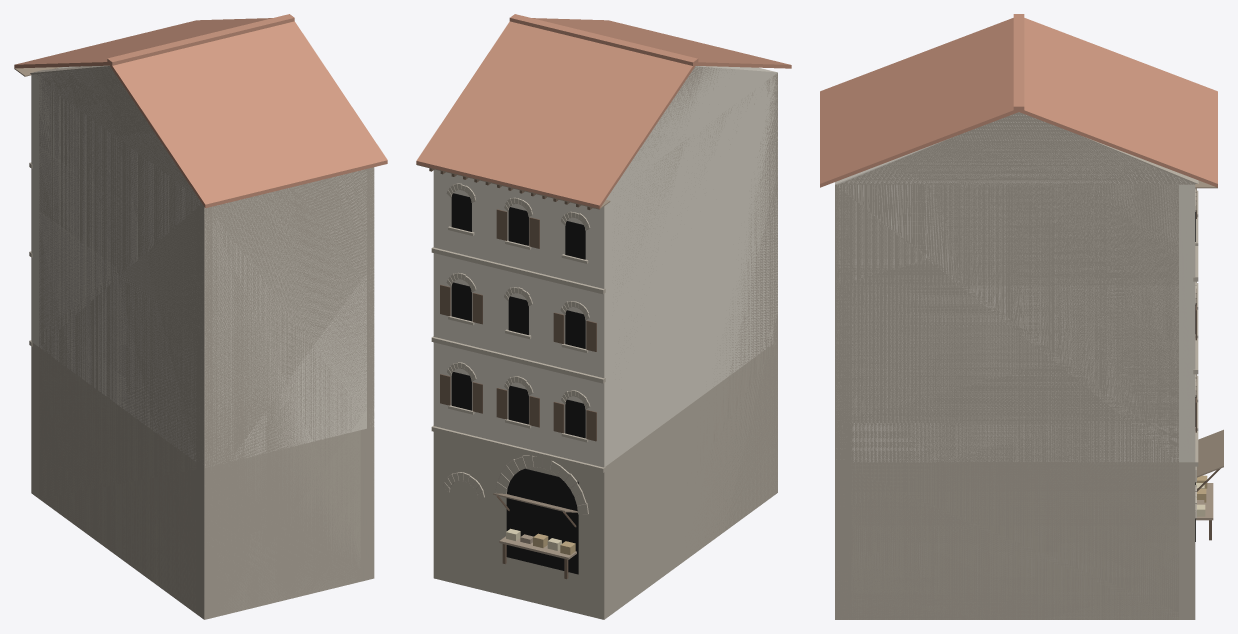
File: casa-68-3-intonaco.glb
The picture shows the model from 3 angles, left to right: view 1: azimuth 30°, elevation 25°; view 2: azimuth 150°, elevation 25°; view 3: azimuth 270°, elevation 25°; orthographic projection. The views are drawn at different scales.
Visible parts, largest first — view 1: vicino, lontano; view 2: lontano, vicino, aperta; view 3: vicino, lontano, aperta.
Boxes of the visible parts, x1=… form: vicino: x1=14, y1=14, x2=387, y2=619; lontano: x1=16, y1=64, x2=386, y2=619; lontano: x1=417, y1=63, x2=791, y2=619; vicino: x1=416, y1=14, x2=791, y2=619; aperta: x1=493, y1=493, x2=577, y2=579; vicino: x1=820, y1=14, x2=1217, y2=619; lontano: x1=820, y1=109, x2=1217, y2=619; aperta: x1=1196, y1=429, x2=1223, y2=540.
Bounding box in the file's own units: 7.3 × 18.98 × 13.45.
